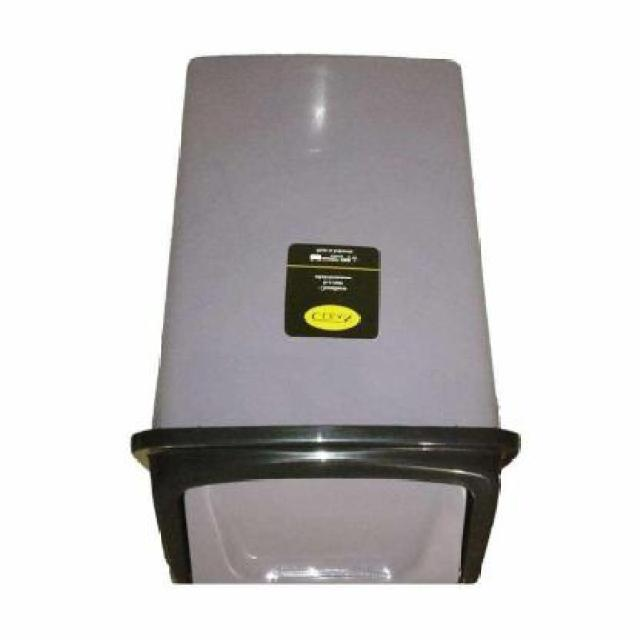garbage container: (123, 37, 551, 597)
